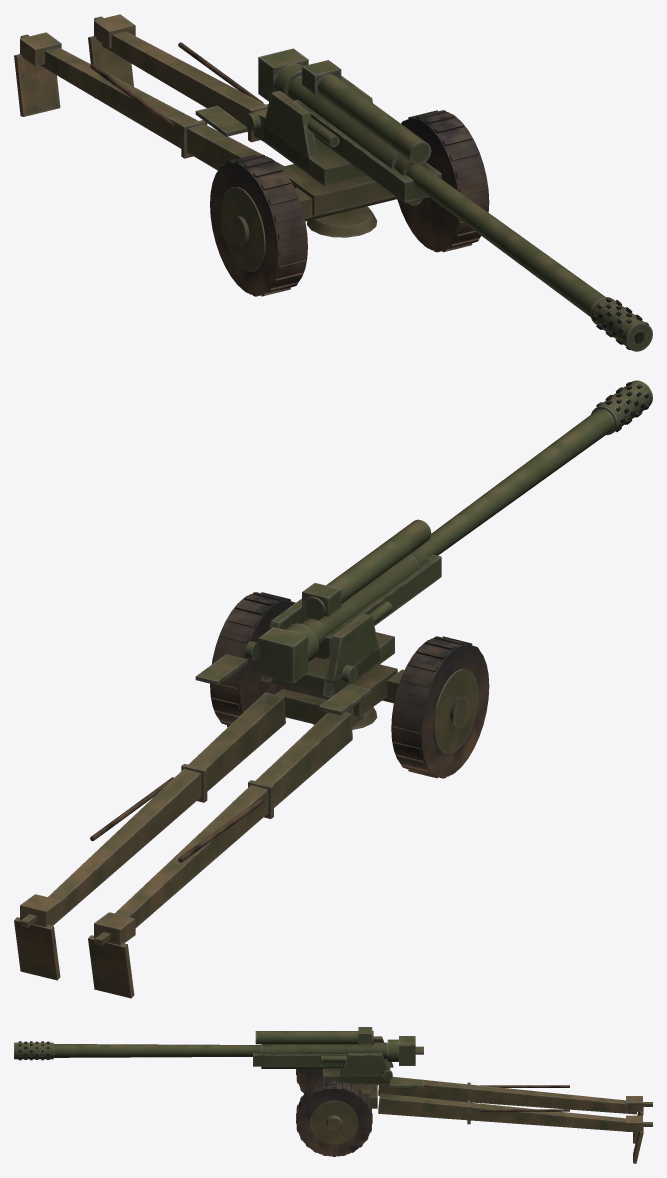
3 views of the same model, one above another, from view 1: azimuth 30°, elevation 25°; view 2: azimuth 150°, elevation 25°; view 3: azimuth 270°, elevation 25° (orthographic). The views are drawn at different scales.
Visible parts, largest first — view 1: ong_nong, banh_phai, cang_phai, cang_trai, banh_trai, nong, be_tren, than; view 2: cang_trai, cang_phai, ong_nong, banh_phai, be_tren, nong, banh_trai, than; view 3: ong_nong, cang_trai, banh_trai, cang_phai, nong, be_tren, banh_phai, than.
Part boxes in pixels (<box>): ong_nong: <box>258,48,652,351</box>; banh_phai: <box>210,154,307,296</box>; cang_phai: <box>14,32,283,170</box>; cang_trai: <box>88,14,268,142</box>; banh_trai: <box>397,110,489,252</box>; nong: <box>294,60,441,205</box>; be_tren: <box>195,76,372,186</box>; than: <box>281,164,398,237</box>; cang_trai: <box>14,692,285,980</box>; cang_phai: <box>88,712,352,998</box>; ong_nong: <box>258,380,652,683</box>; banh_phai: <box>391,636,489,778</box>; be_tren: <box>195,598,394,715</box>; nong: <box>302,519,441,659</box>; banh_trai: <box>210,592,295,726</box>; than: <box>275,664,404,729</box>; ong_nong: <box>14,1036,415,1065</box>; cang_trai: <box>378,1093,652,1163</box>; banh_trai: <box>296,1080,372,1156</box>; cang_phai: <box>378,1076,652,1143</box>; nong: <box>253,1027,373,1068</box>; be_tren: <box>321,1036,423,1087</box>; banh_phai: <box>296,1069,322,1093</box>; than: <box>355,1085,377,1108</box>.
Size of the model in its own units: 2.54 by 2.33 by 11.39.
1 material, 1 textured.
